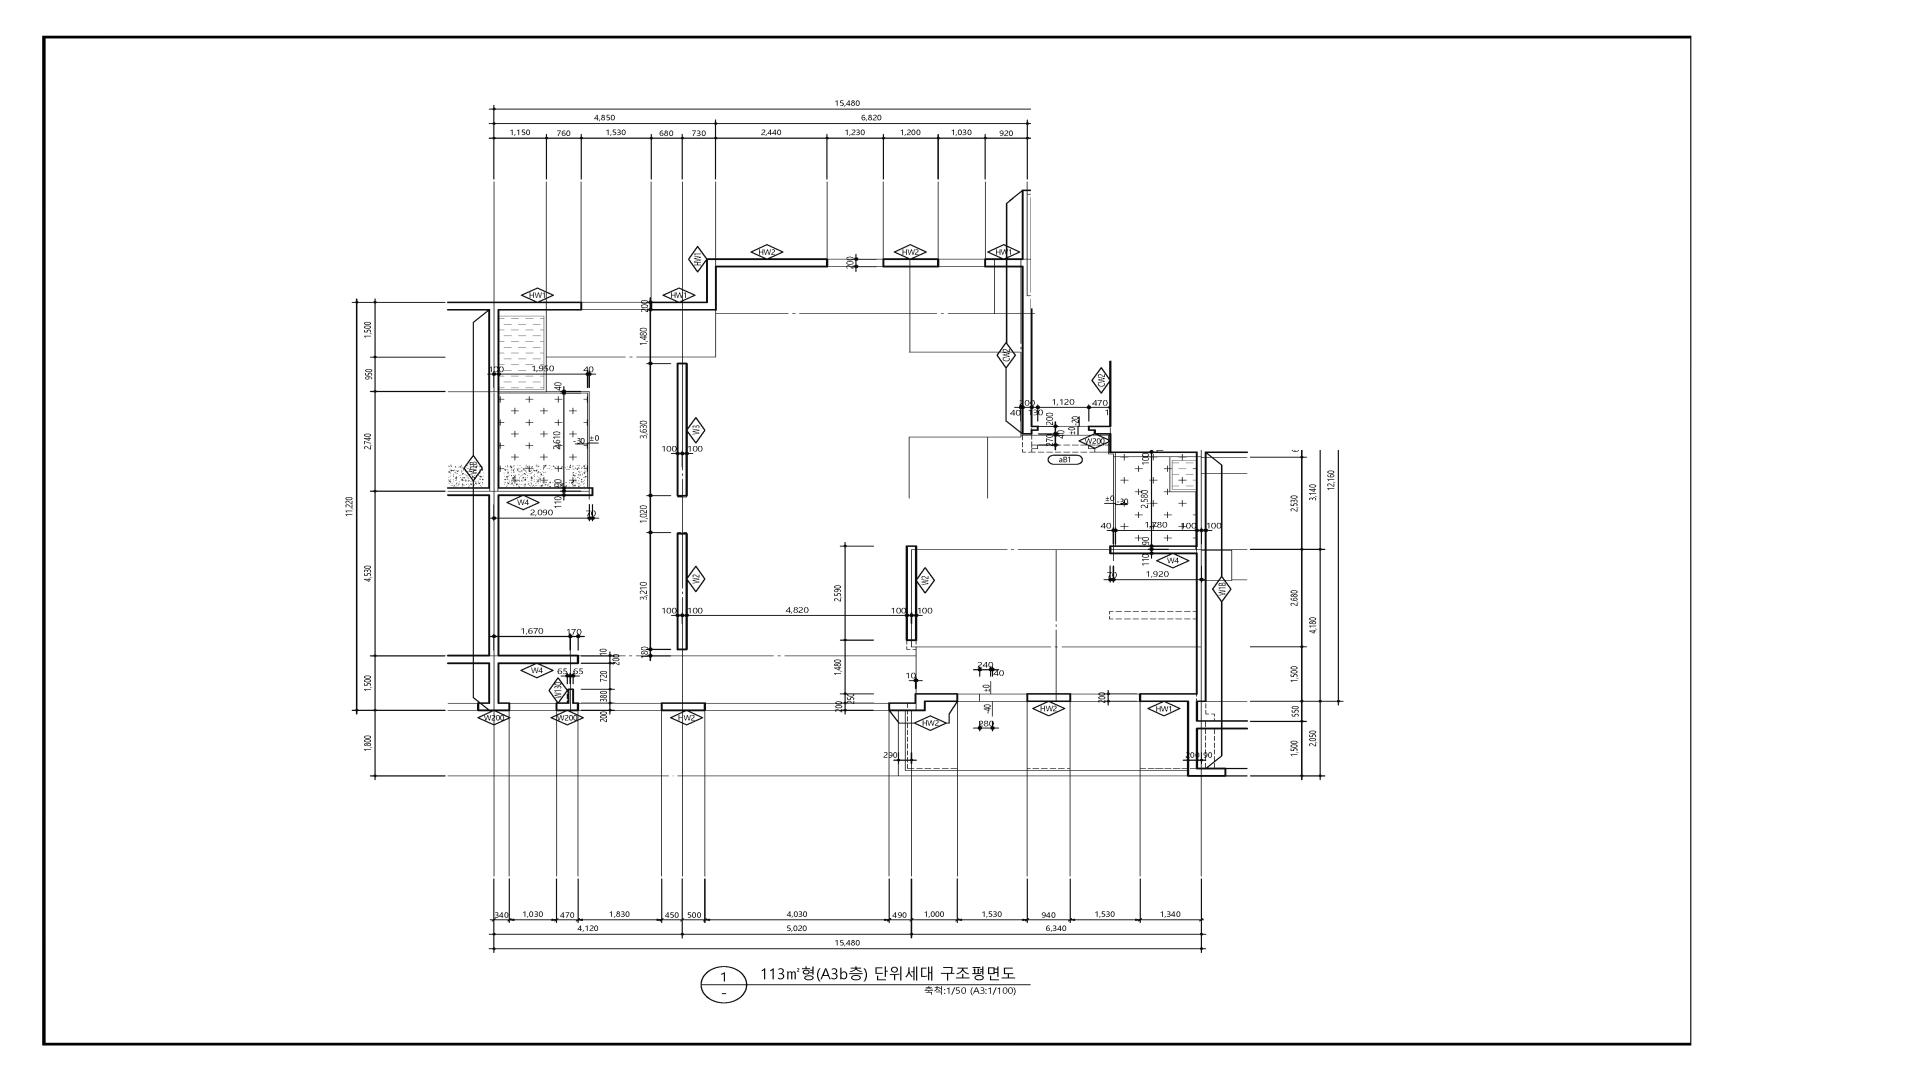wall: (488, 310, 500, 487), (488, 496, 500, 654), (676, 363, 688, 496), (1196, 554, 1207, 694), (676, 533, 688, 650), (1022, 309, 1033, 435), (705, 258, 828, 268), (906, 546, 918, 641), (1196, 454, 1207, 546), (500, 487, 593, 496), (500, 654, 579, 665), (1109, 546, 1207, 554), (500, 302, 582, 311), (1022, 190, 1031, 258), (1187, 720, 1247, 729), (1139, 694, 1207, 702), (882, 258, 939, 268), (705, 268, 717, 311), (650, 302, 705, 311), (488, 665, 500, 703), (1187, 729, 1199, 767), (447, 654, 488, 665), (447, 487, 488, 496), (1022, 268, 1031, 309), (1187, 767, 1226, 777), (661, 703, 705, 711), (1026, 694, 1071, 702), (984, 258, 1022, 268), (447, 302, 488, 310), (926, 694, 959, 703), (889, 703, 926, 711), (477, 703, 510, 711), (1187, 702, 1199, 720), (1088, 426, 1112, 435), (555, 703, 579, 711), (488, 654, 500, 665), (488, 487, 500, 496), (915, 694, 926, 703), (567, 688, 574, 703), (488, 302, 500, 310), (1022, 258, 1031, 268), (1033, 426, 1039, 431)
